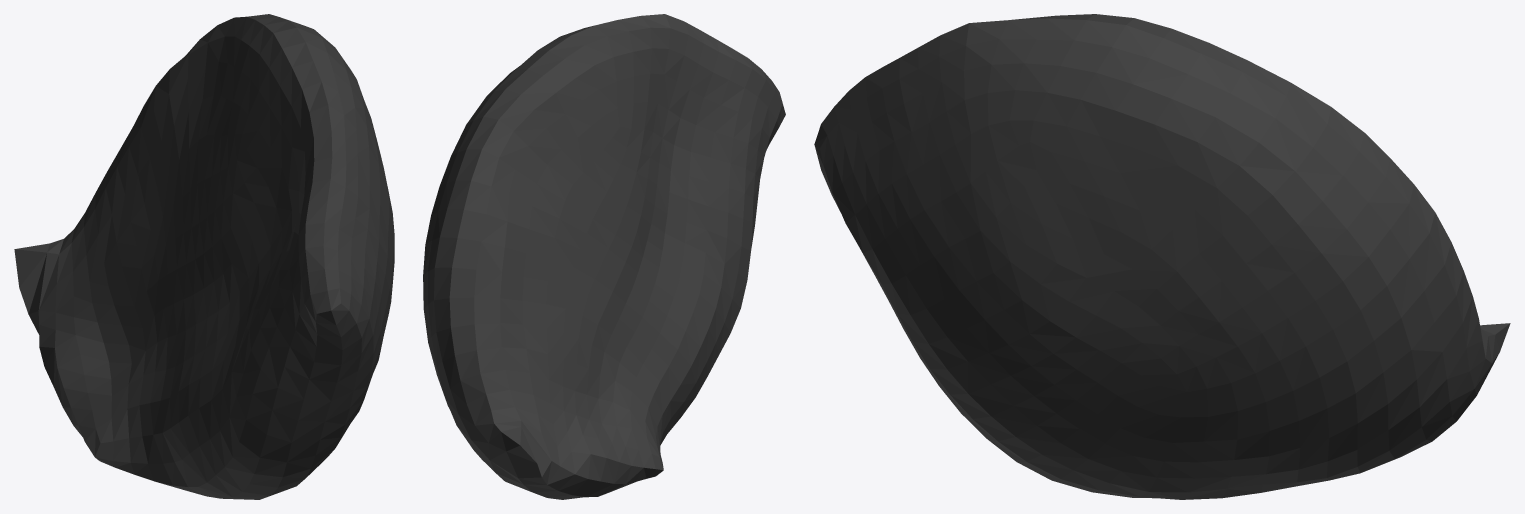
The model's file is masseter_sup.glb.
3 renders of one model, left to right at view 1: azimuth 30°, elevation 25°; view 2: azimuth 150°, elevation 25°; view 3: azimuth 270°, elevation 25°, orthographic. The views are drawn at different scales.
Visible parts, largest first — view 1: masseter_sup; view 2: masseter_sup; view 3: masseter_sup.
Part boxes in pixels (left/top/right/bottom): masseter_sup: left=14, top=14, right=394, bottom=499; masseter_sup: left=423, top=14, right=785, bottom=499; masseter_sup: left=814, top=14, right=1510, bottom=499.
Bounding box in the file's own units: 0.399 × 0.7385 × 0.9127.
Materials: 1 (1 with a texture image).
